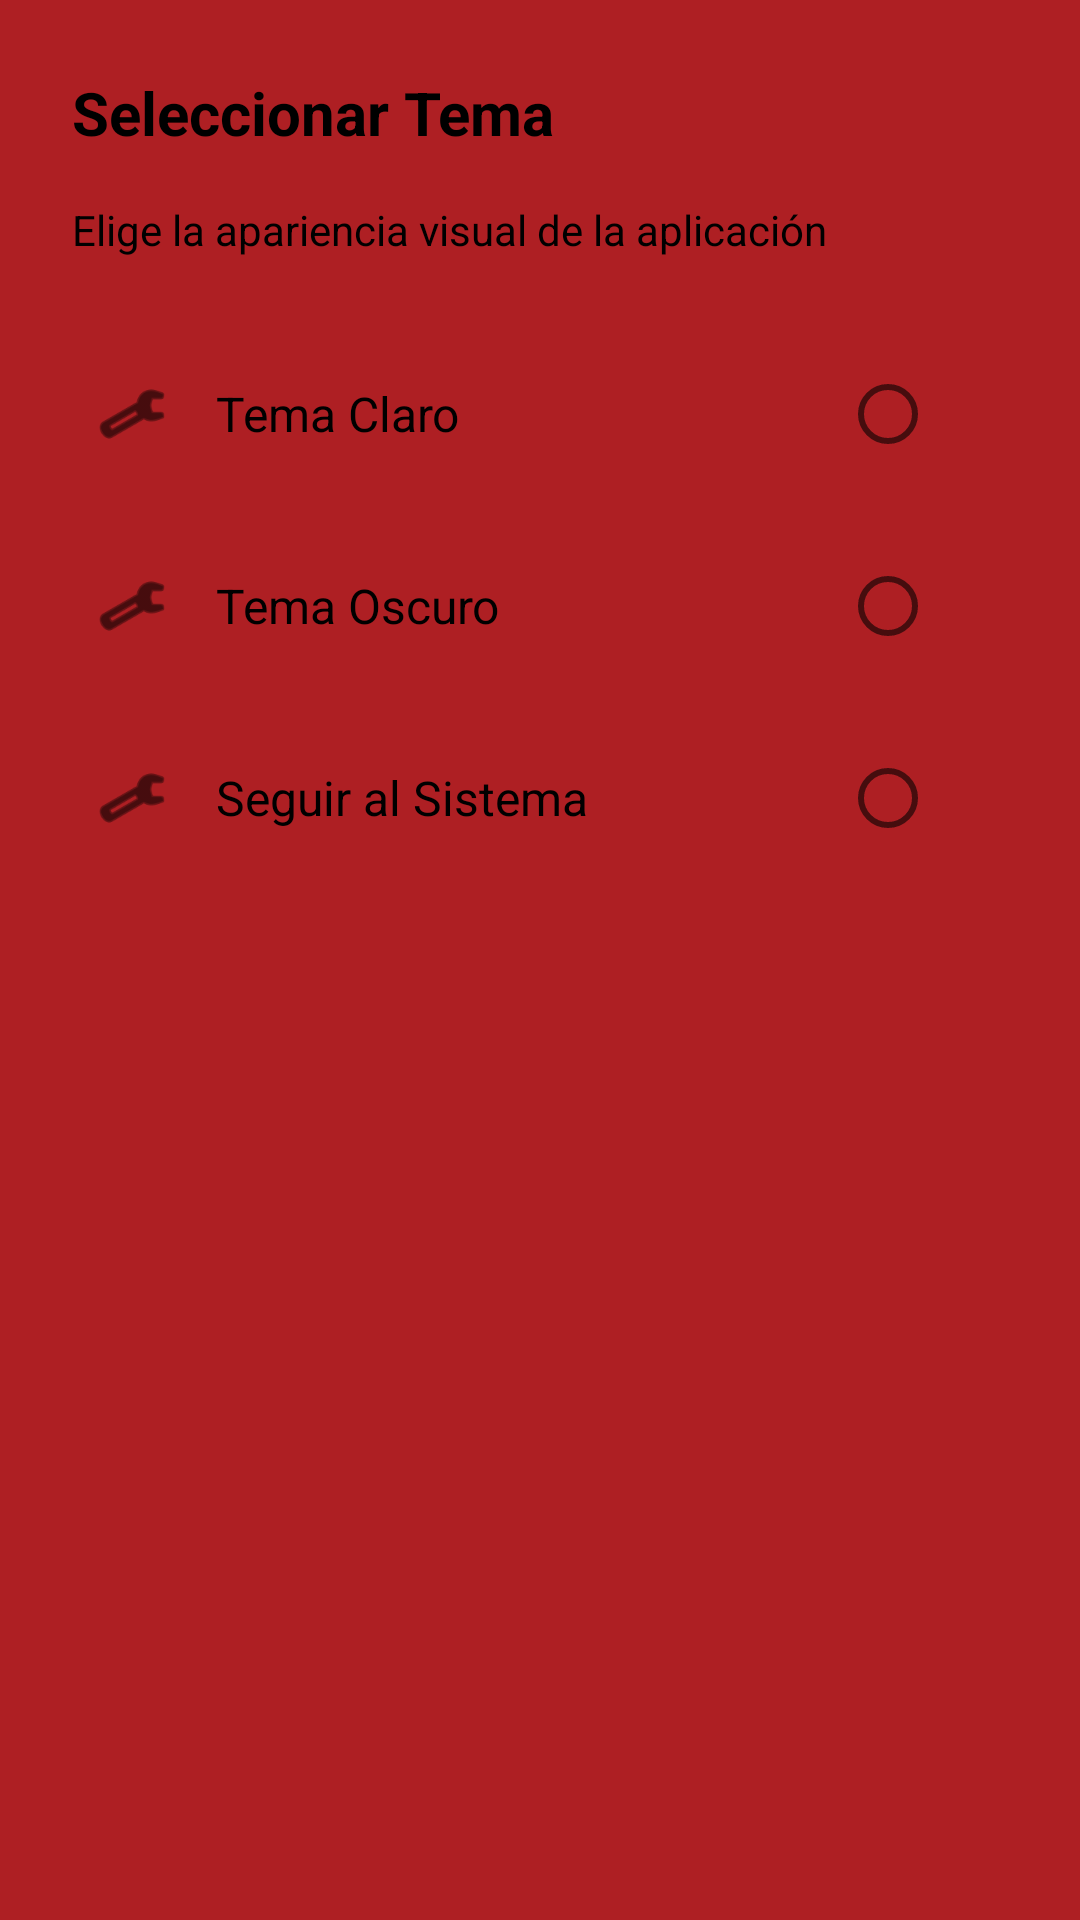

Named icons in this screenshot (1080px×1920px) and their bounding boxes, (x1, y1, x2, y2):
preferences: (100, 389, 164, 439), (100, 581, 164, 631), (100, 773, 164, 823)
